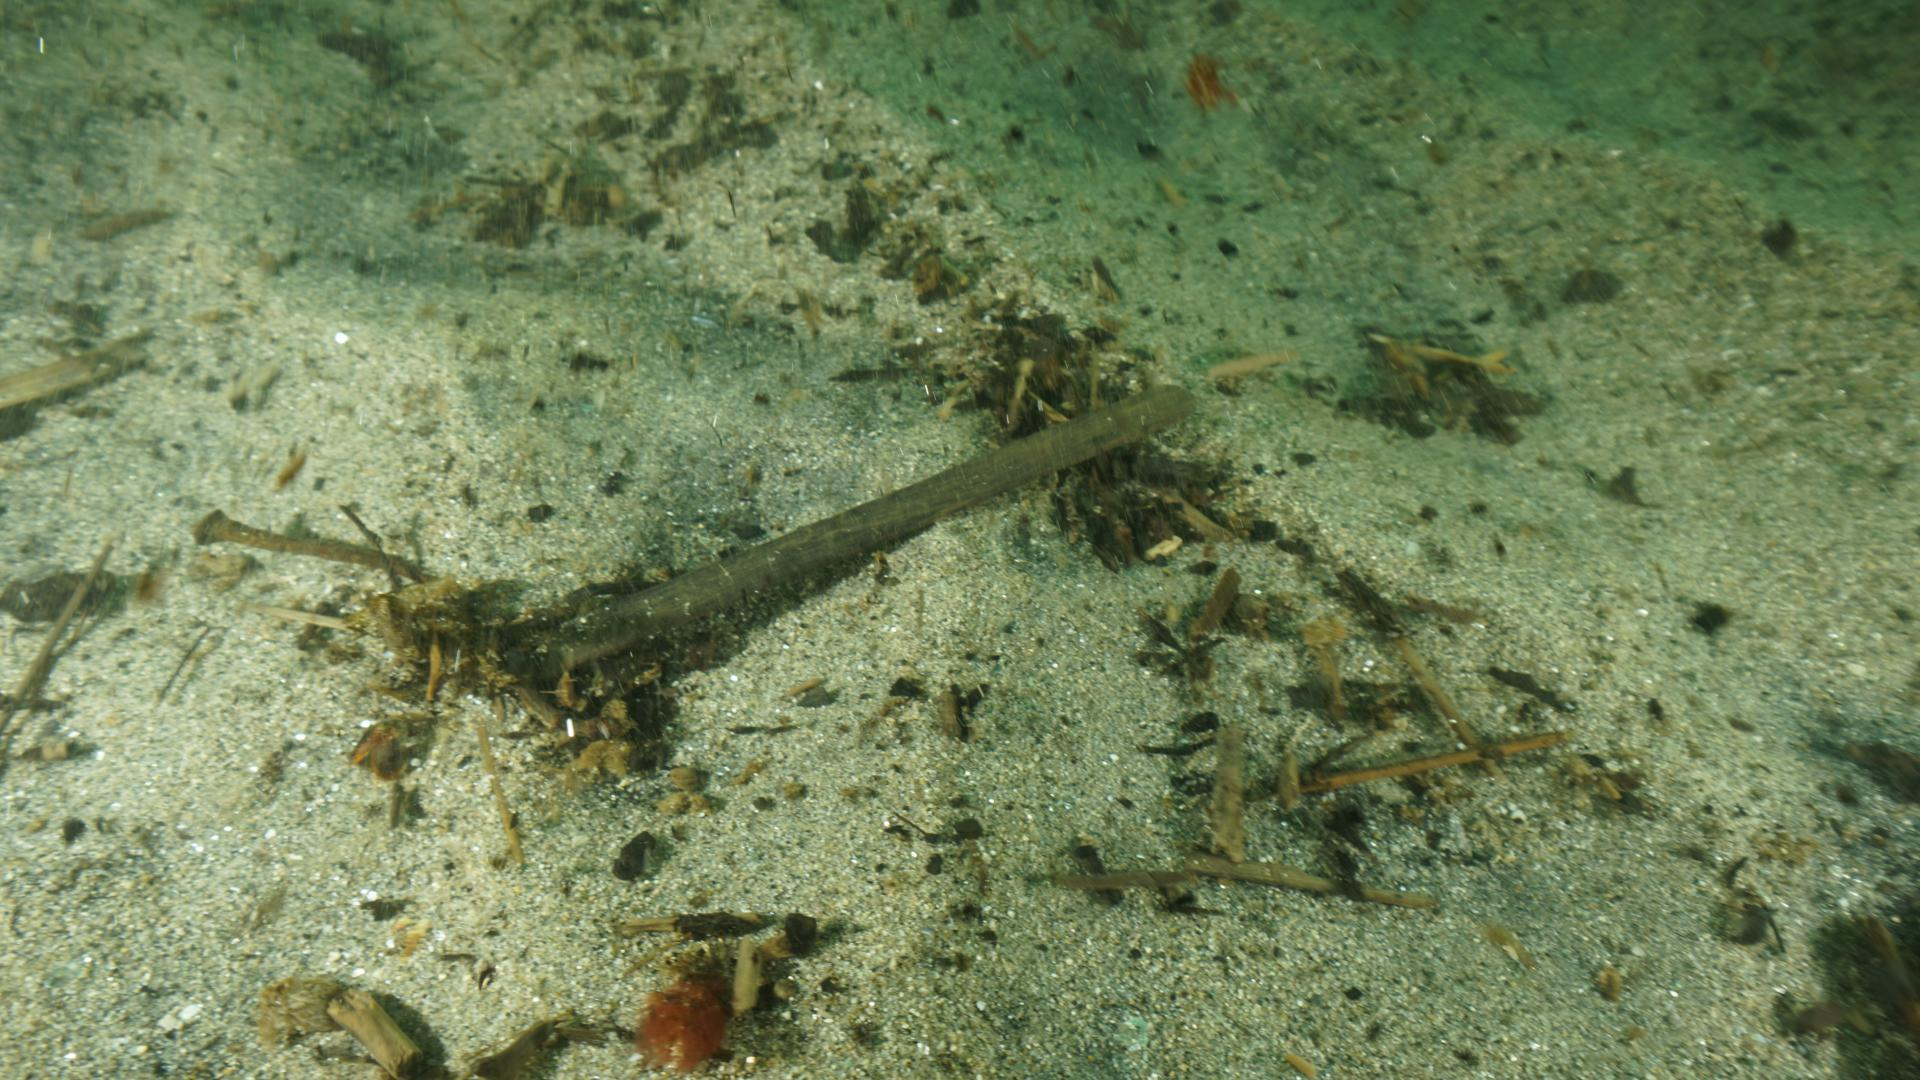wood: (553, 381, 1197, 670)
